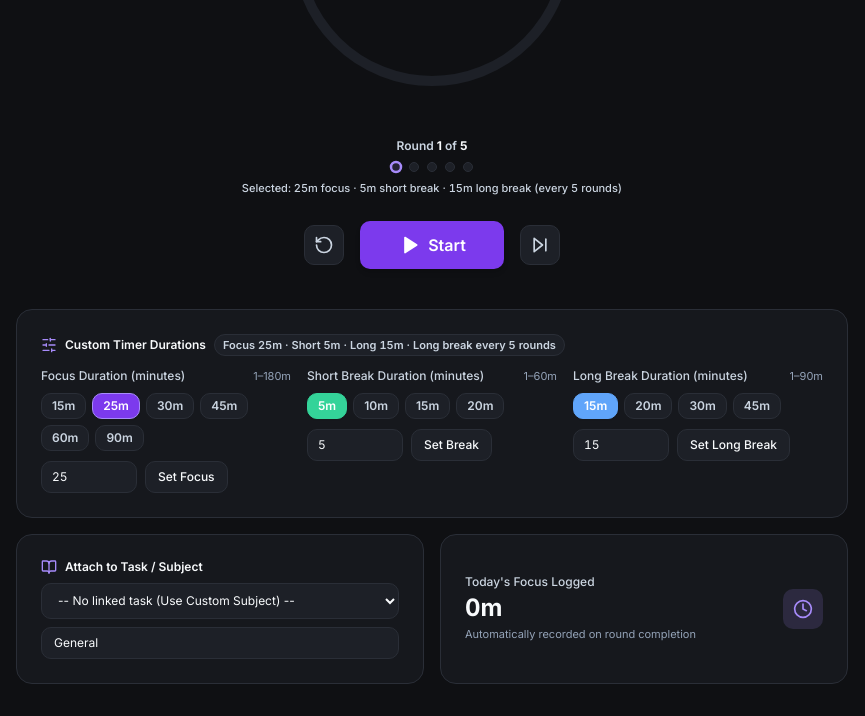
Test: Customizable Focus Timer UI & Settings Synchronization › updates focus, short break, and long break durations via presets/inputs and resets defaults including interval 5
(page scrolled)
Note: Click 60m focus preset
Click the button "60m" at [65, 438], box x1=41 y1=424 x2=89 y2=450
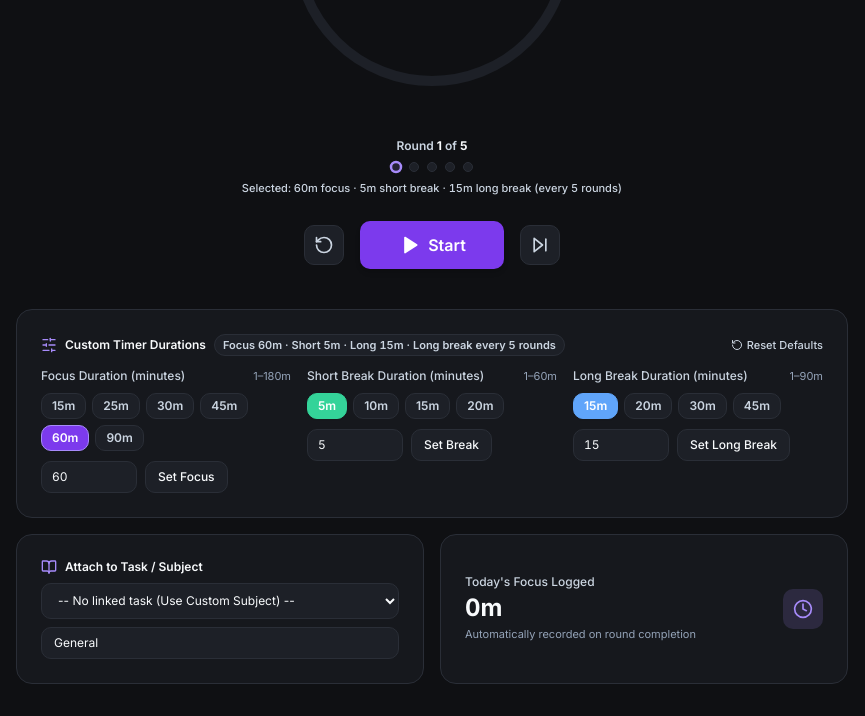
Note: Enter custom focus duration (50m)
Replace the text in the number field named "Custom focus minutes" with "50" at [89, 476], box x1=41 y1=460 x2=137 y2=492
Click the button "Set Focus" at [186, 476], box x1=145 y1=460 x2=228 y2=492
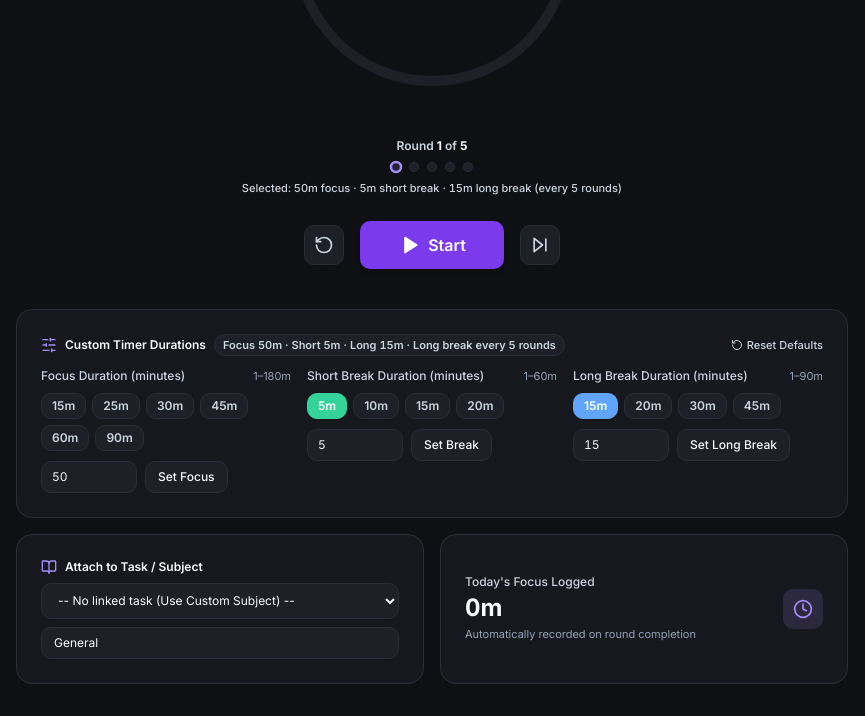
Note: Enter custom short break duration (12m)
Replace the text in the number field named "Custom break minutes" with "12" at [355, 444], box x1=307 y1=428 x2=403 y2=460
Click the button "Set Break" at [452, 444], box x1=411 y1=428 x2=492 y2=460
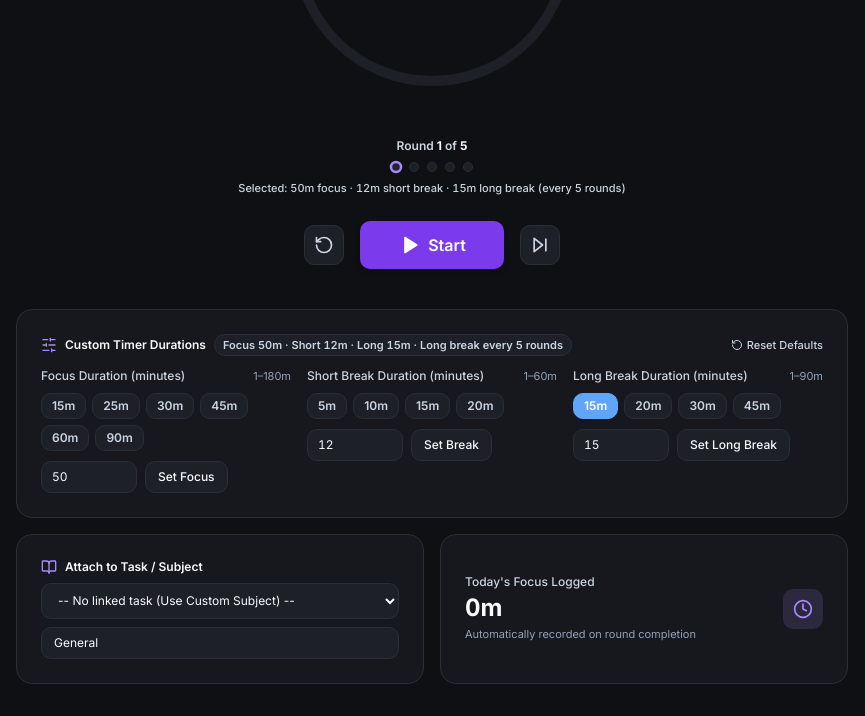
Check: the text "Selected: 50m focus · 12m short break · 15m long break (every 5 rounds)" is shown, box x1=238 y1=180 x2=626 y2=196
Note: Enter custom long break duration (30m)
Replace the text in the number field named "Custom long break minutes" with "30" at [621, 444], box x1=573 y1=428 x2=669 y2=460
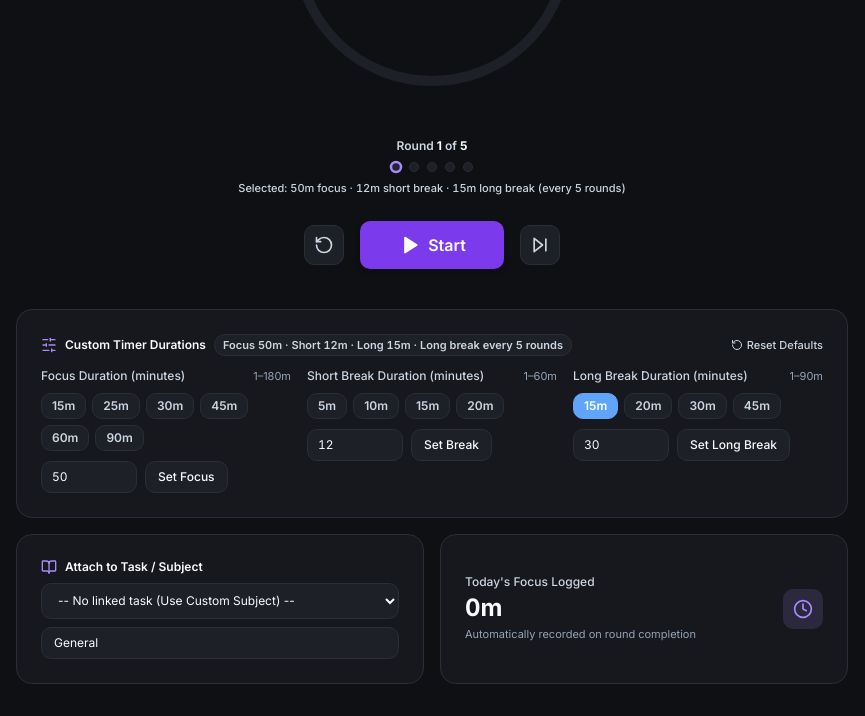
Click the button "Set Long Break" at [734, 444], box x1=677 y1=428 x2=790 y2=460
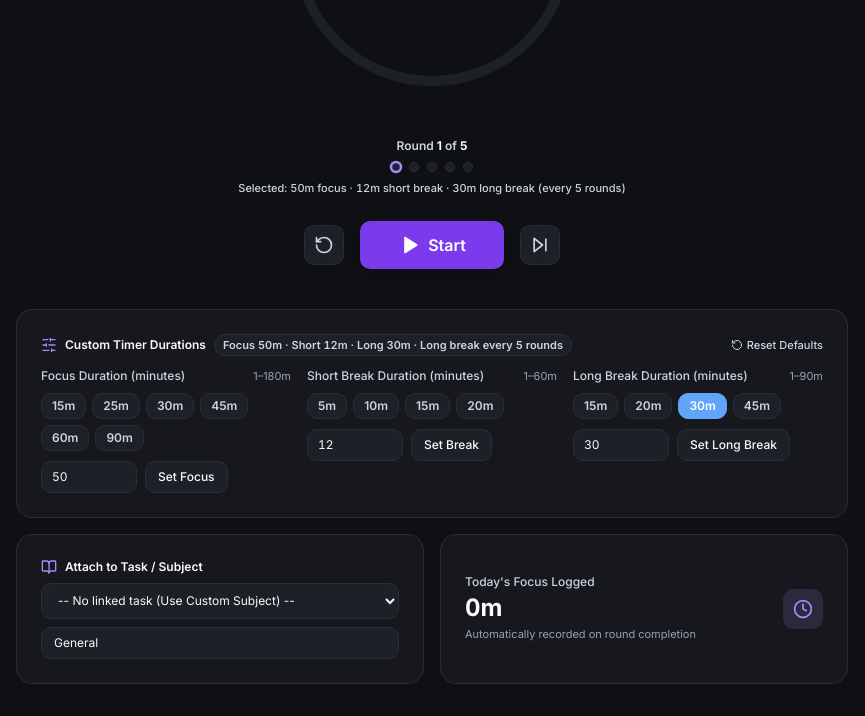
Check: the text "Selected: 50m focus · 12m short break · 30m long break (every 5 rounds)" is shown, box x1=238 y1=180 x2=626 y2=196
Note: Reset all defaults (25 / 5 / 15 / 5)
Click the button with aria-label "Reset durations to default" at [777, 345], box x1=731 y1=336 x2=823 y2=353
(page scrolled)
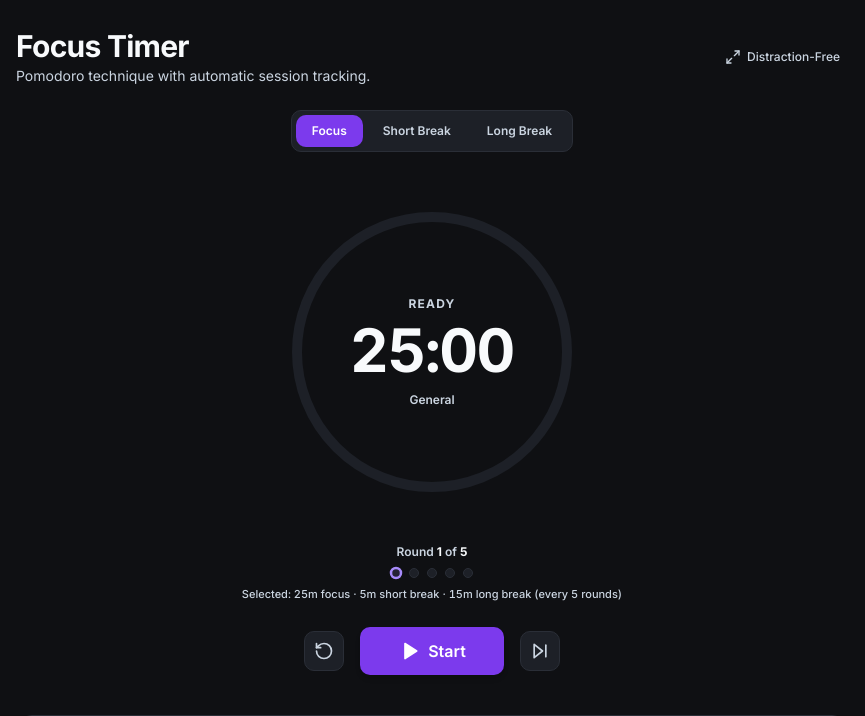
Check: the text "Selected: 25m focus · 5m short break · 15m long break (every 5 rounds)" is shown, box x1=242 y1=586 x2=622 y2=602
Check: the text "25:00" is shown, box x1=350 y1=320 x2=514 y2=380
